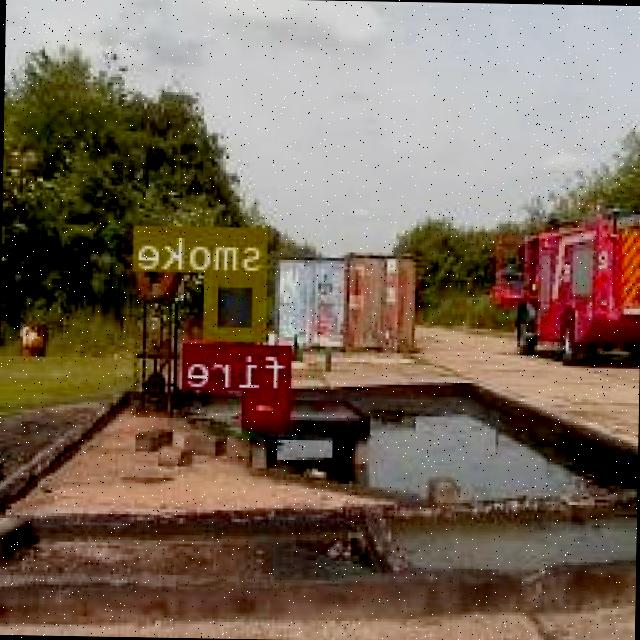fire: (244, 388, 290, 420)
smoke: (207, 270, 270, 339)
